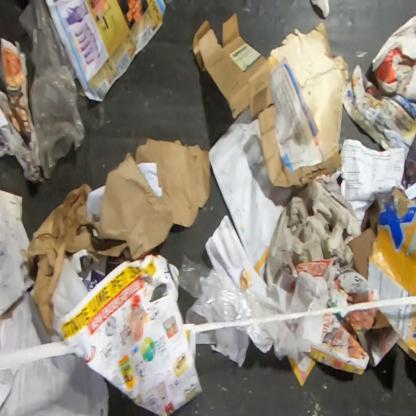cardboard: (190, 12, 341, 189), (347, 186, 416, 300), (0, 190, 36, 320), (371, 303, 416, 362)
soft_plastic: (18, 0, 88, 181), (178, 253, 270, 322), (234, 322, 274, 354)
